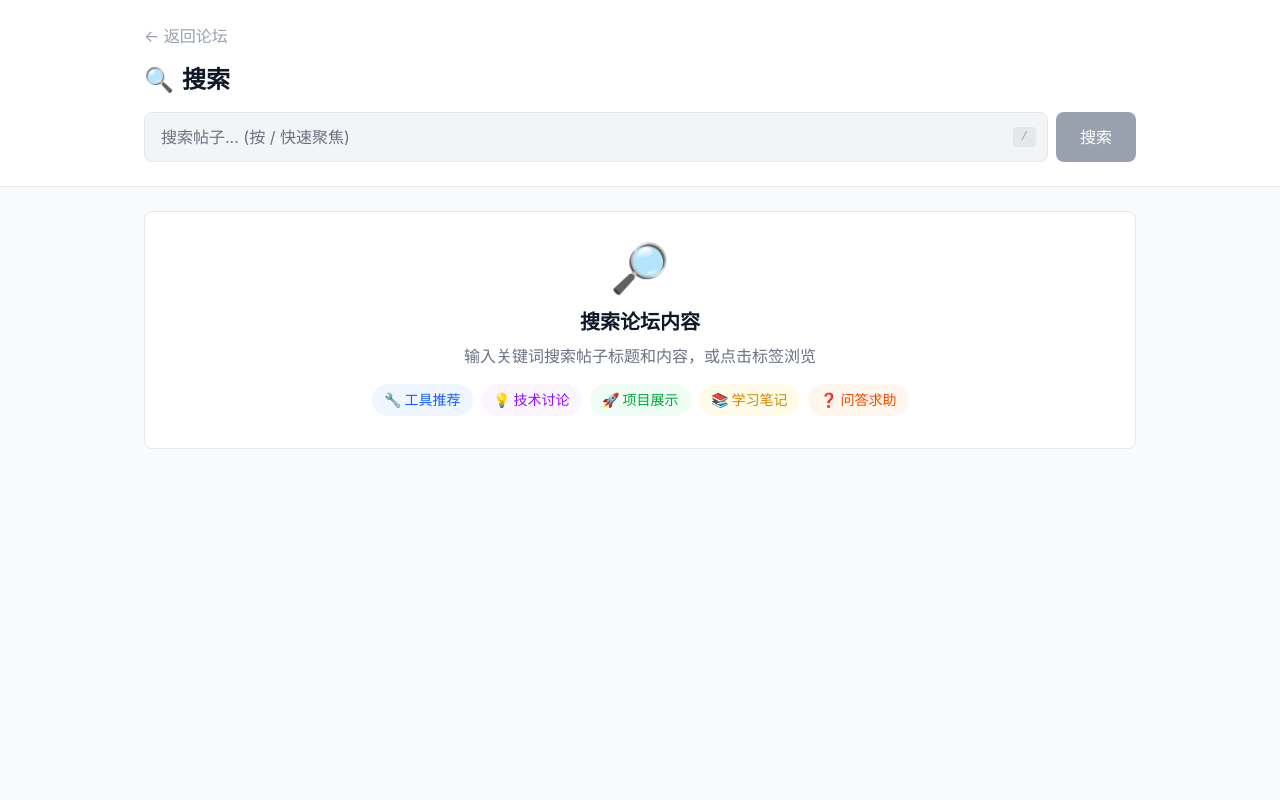
Scenario: SearchClient › 搜索功能 › 输入至少 2 个字符才能搜索
1 个字符时按钮禁用
Type "a" into the field with placeholder "搜索帖子... (按 / 快速聚焦)" at (596, 137), box [144,112,1048,162]
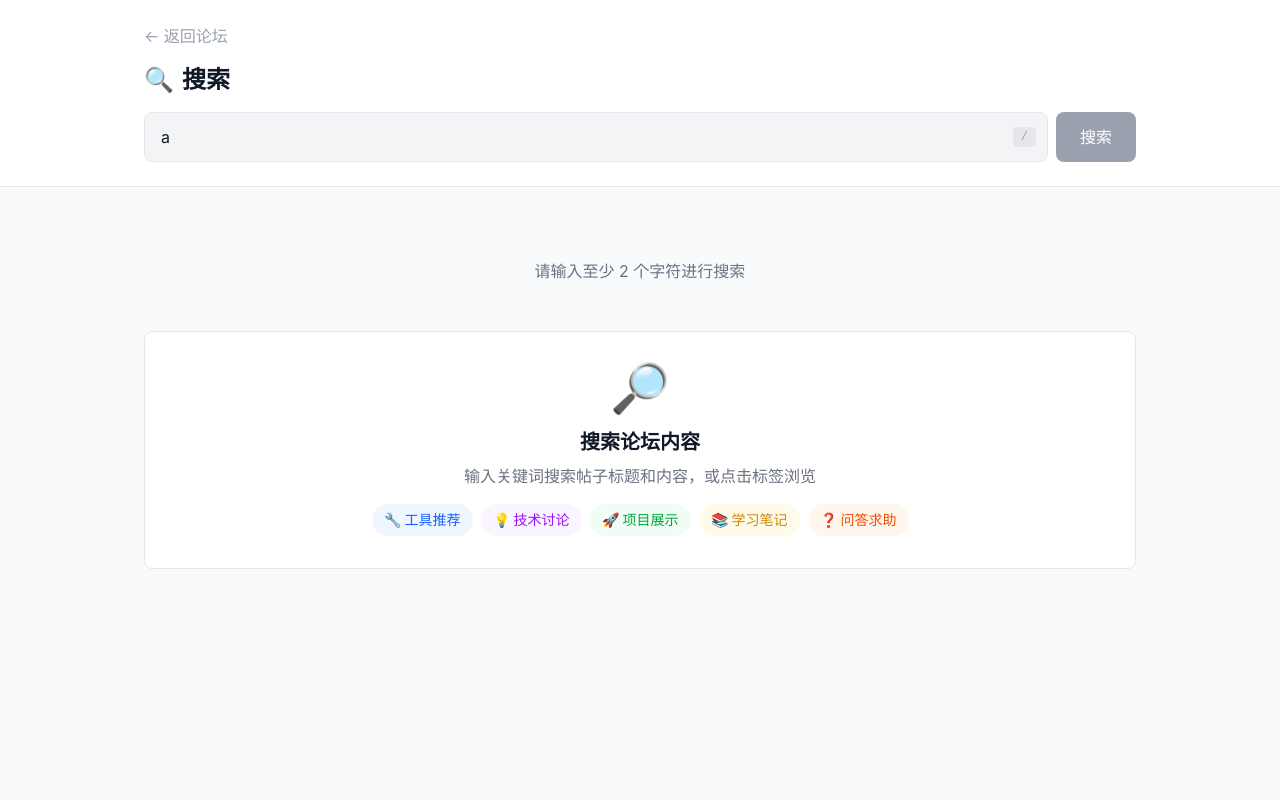
Check: the button "搜索" is disabled, box [1056,112,1136,162]
2 个字符时按钮启用
Replace the text in the field with placeholder "搜索帖子... (按 / 快速聚焦)" with "ab" at (596, 137), box [144,112,1048,162]
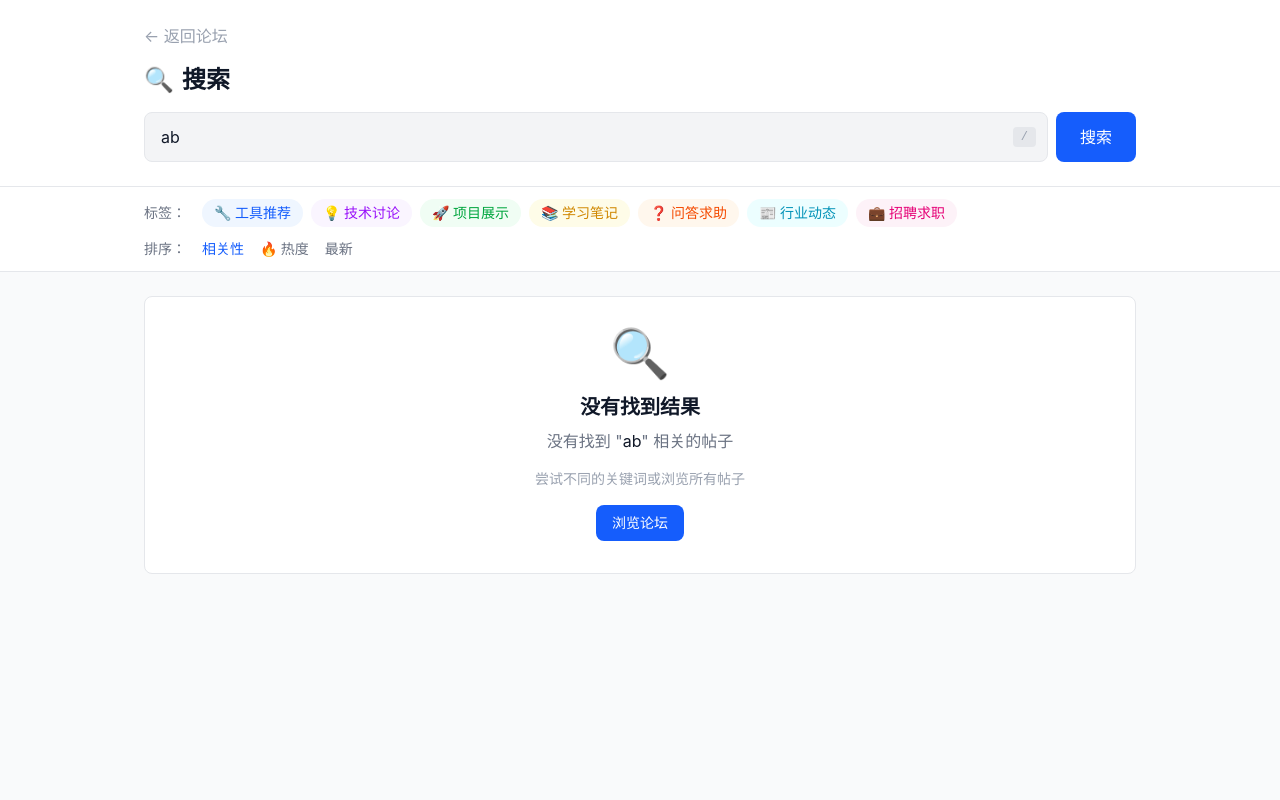
Check: the button "搜索" is enabled, box [1056,112,1136,162]
